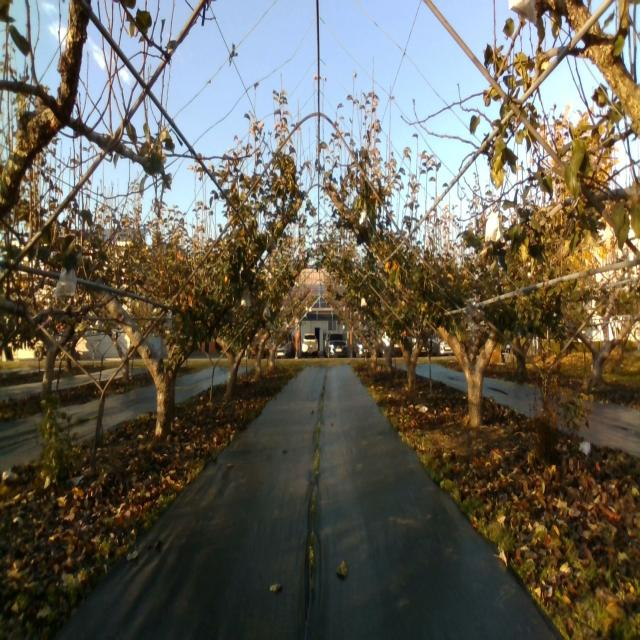pearbags: (54, 267, 78, 298), (485, 213, 505, 244)
